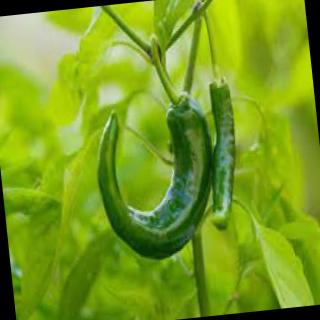Cabai Hijau: (97, 94, 213, 262), (210, 84, 237, 231)
